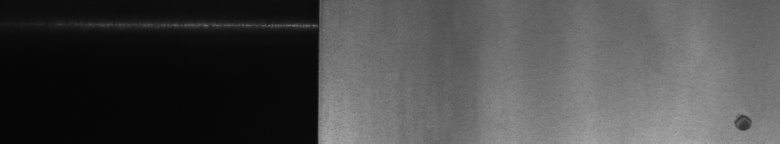fi: (729, 108, 756, 136)
